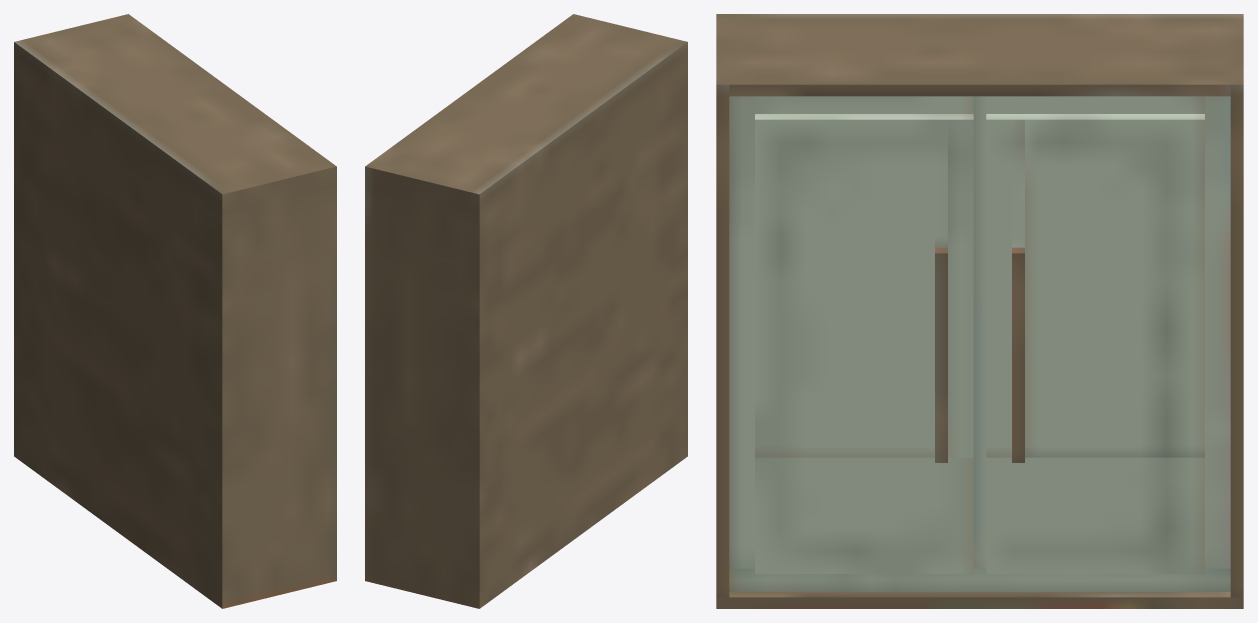
The model's file is DresserDarkGrey_00.fbx.
3 renders of one model, left to right at view 1: azimuth 30°, elevation 25°; view 2: azimuth 150°, elevation 25°; view 3: azimuth 270°, elevation 25°, orthographic. The views are drawn at different scales.
Visible parts, largest first — view 1: DresserDarkGrey_00; view 2: DresserDarkGrey_00; view 3: DresserDarkGrey_00.
Boxes of the visible parts, left/top/right/bottom form: DresserDarkGrey_00: left=14, top=14, right=336, bottom=608; DresserDarkGrey_00: left=365, top=14, right=687, bottom=608; DresserDarkGrey_00: left=716, top=14, right=1243, bottom=608.
Size of the model in its own units: 70 by 205 by 225.
Materials: 1 (1 with a texture image).
